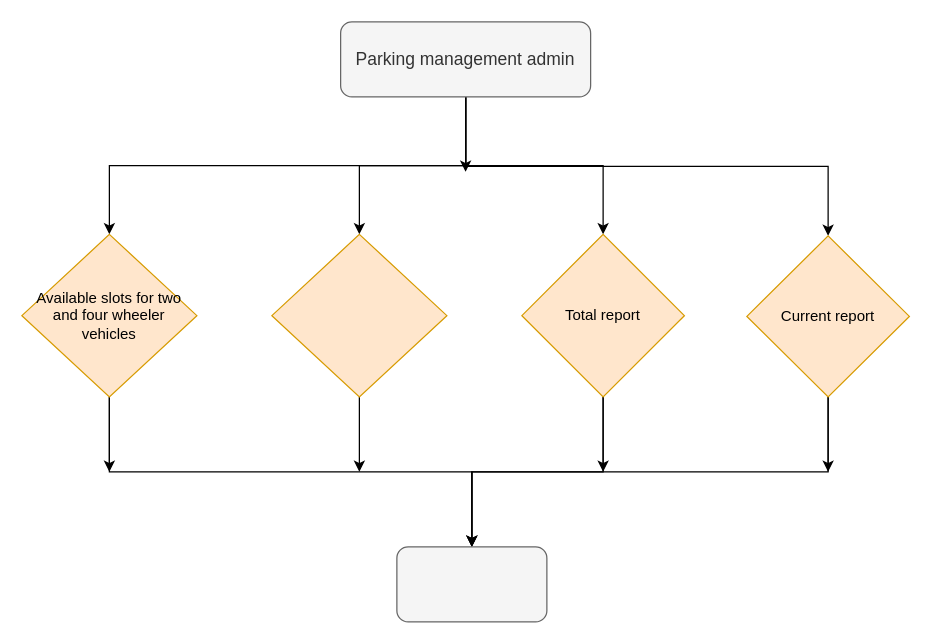
This 931x644 diagram has some shape labels left out. The shapes that lost their labels are listed below. From the top down, each one's centre as x and y in pixels, then its label:
At point (359, 315): "Number and time of inward and outward vehicles".
At point (471, 584): "Exit".
